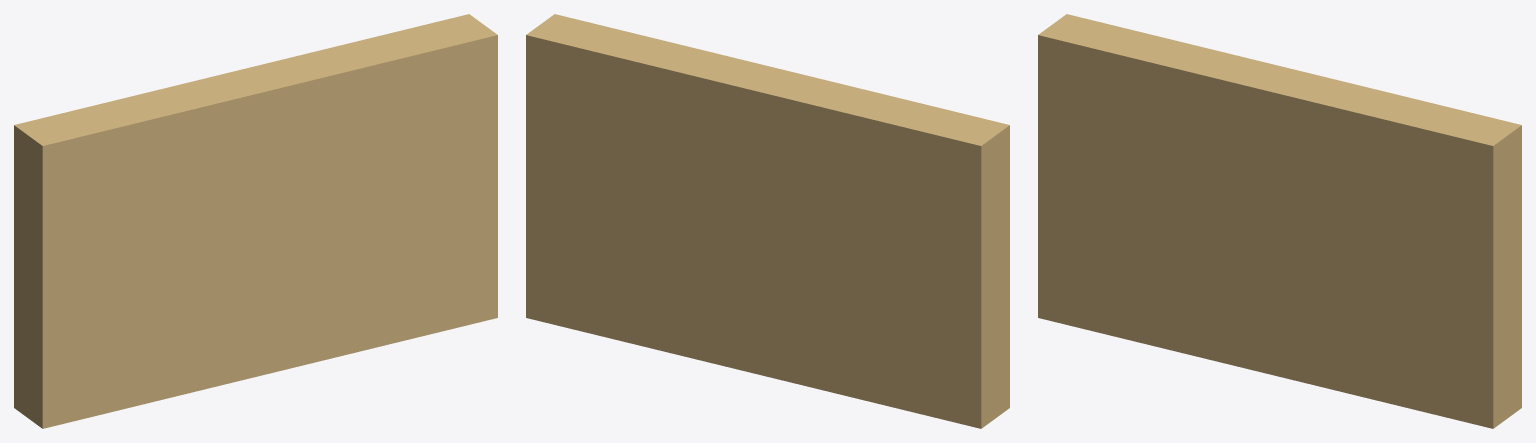
3 renders of one model, left to right at view 1: azimuth 30°, elevation 25°; view 2: azimuth 150°, elevation 25°; view 3: azimuth 330°, elevation 25°, orthographic.
Visible parts, largest first — view 1: GF-L10-BLK-SUP-B4-S1-011; view 2: GF-L10-BLK-SUP-B4-S1-011; view 3: GF-L10-BLK-SUP-B4-S1-011.
Part boxes in pixels (left/top/right/bottom): GF-L10-BLK-SUP-B4-S1-011: left=14, top=14, right=497, bottom=428; GF-L10-BLK-SUP-B4-S1-011: left=526, top=14, right=1009, bottom=428; GF-L10-BLK-SUP-B4-S1-011: left=1038, top=14, right=1521, bottom=428.
Size of the model in its own units: 0.32 by 0.19 by 0.035.
